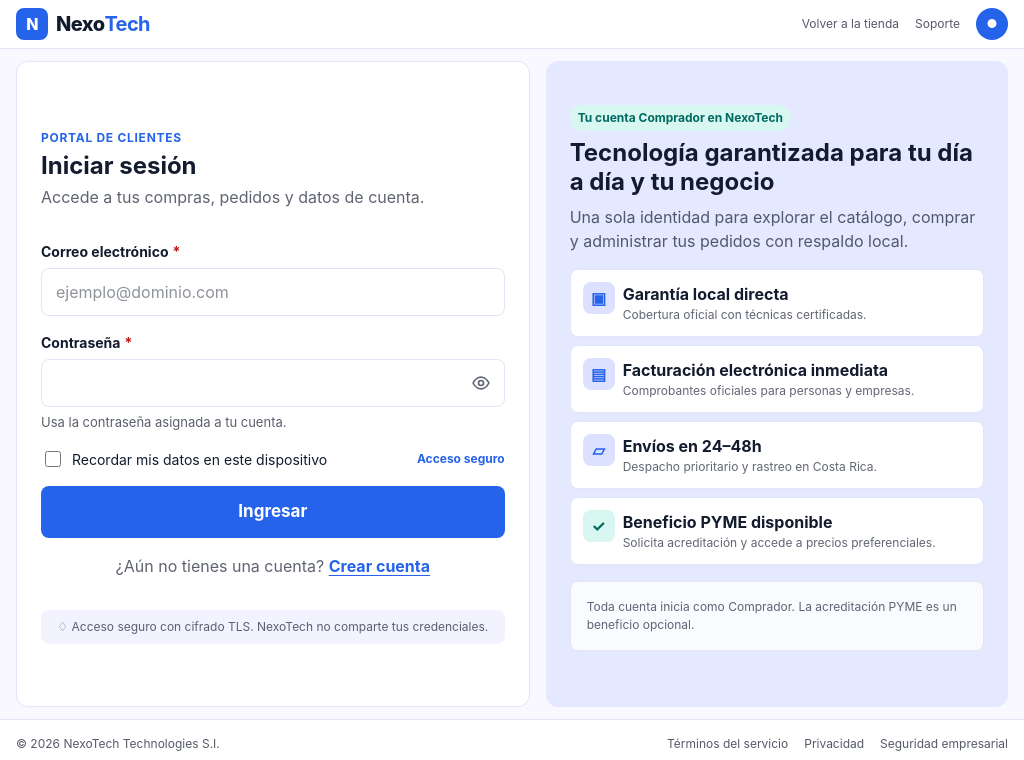
Test: autenticación demostrativa › rechaza credenciales incorrectas y permite ingresar al comprador demo
The image size is (1024, 760).
Expected: the heading "Iniciar sesión" is shown, [41,151,196,180]
Type "camila.regular@nexotech.demo.test" into the field labelled "Correo electrónico*" at {"x": 273, "y": 292}, box [41,268,505,316]
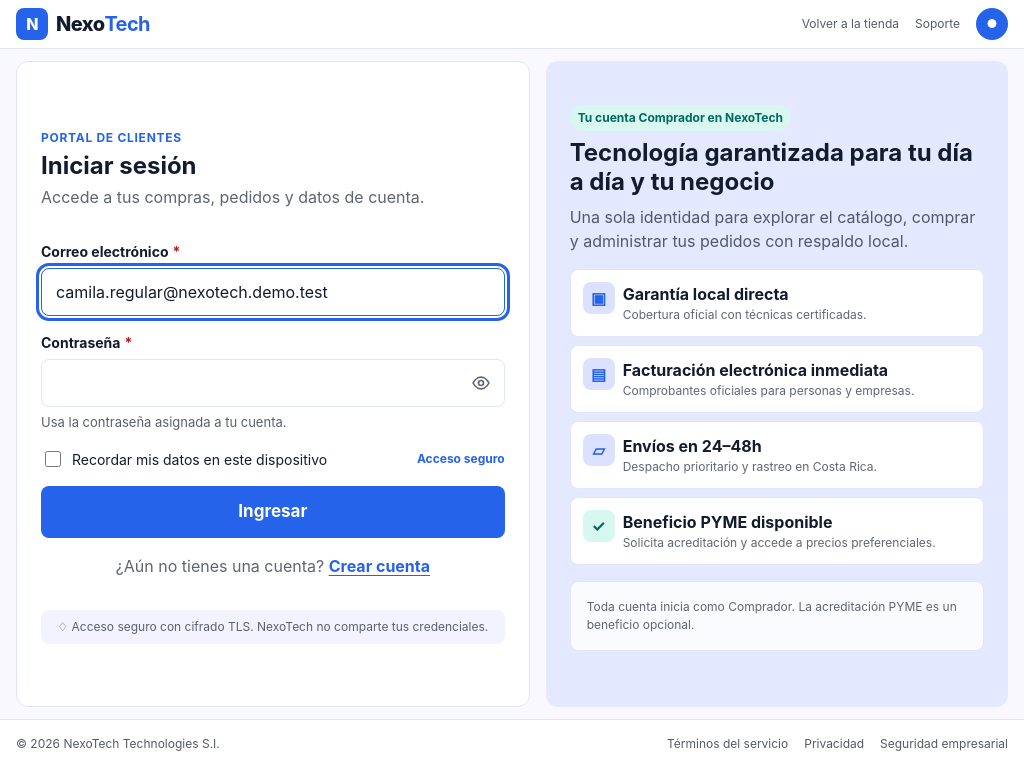
Type "Clave1234" into the password field labelled "Contraseña*" at {"x": 273, "y": 383}, box [41,359,505,407]
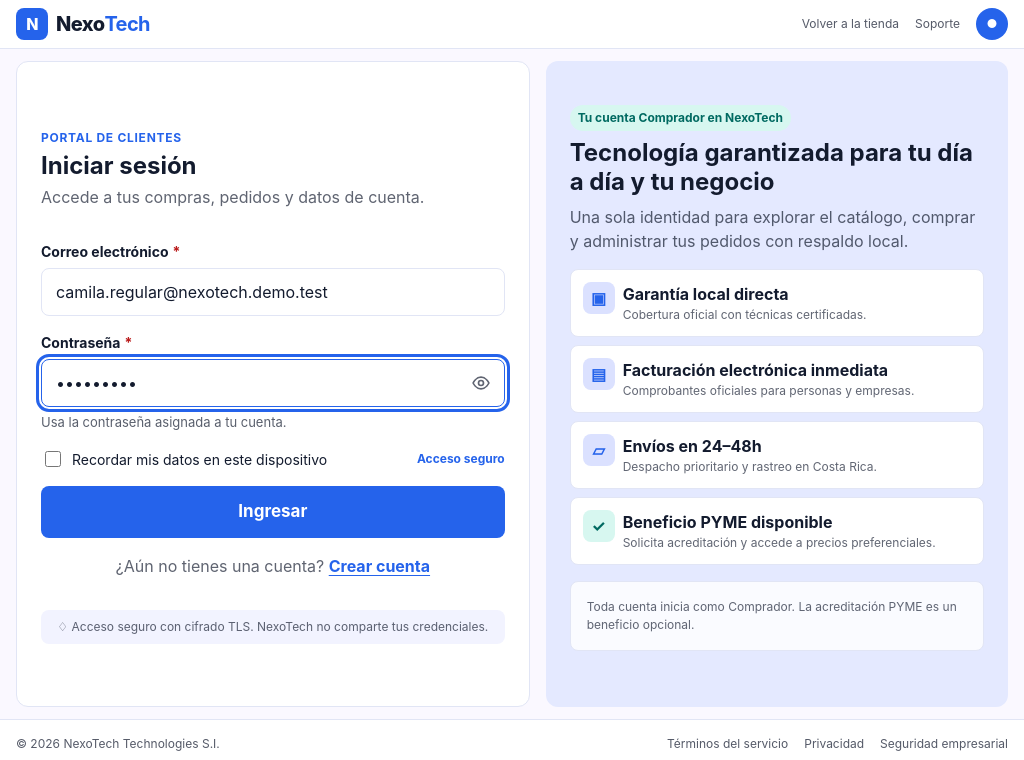
Click the button "Ingresar" at {"x": 273, "y": 512}, box [41,486,505,538]
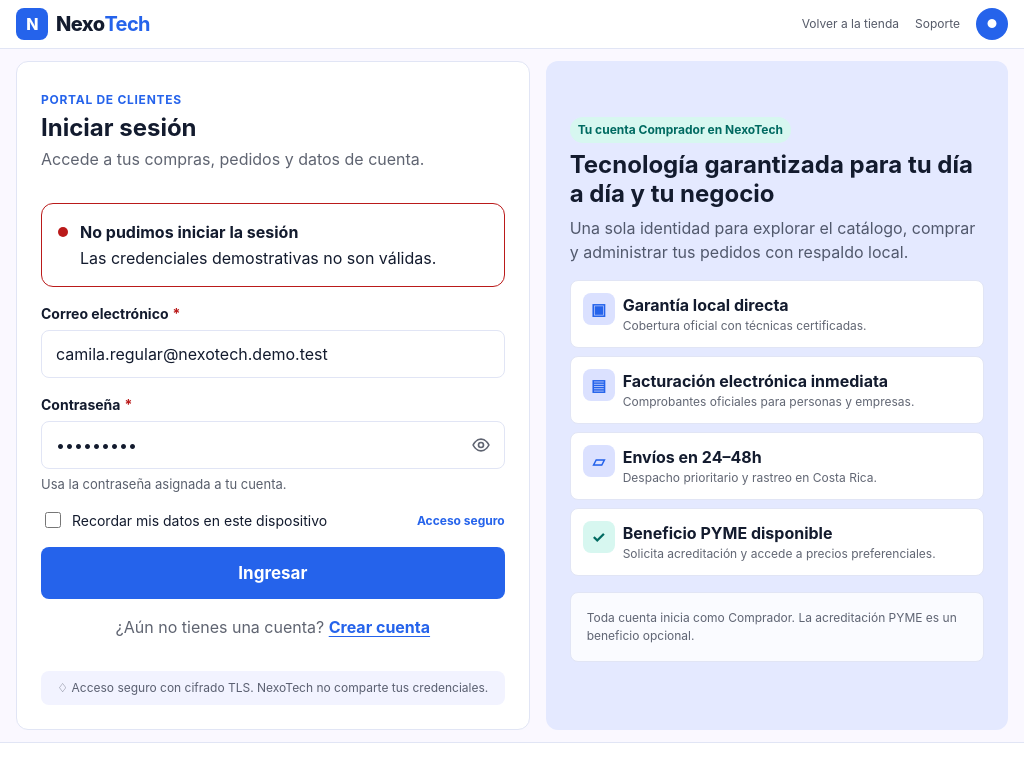
Expected: the text "Las credenciales demostrativas no son válidas." is shown, [80,246,476,270]
Type "Comprador123!" into the password field labelled "Contraseña*" at {"x": 273, "y": 445}, box [41,421,505,469]
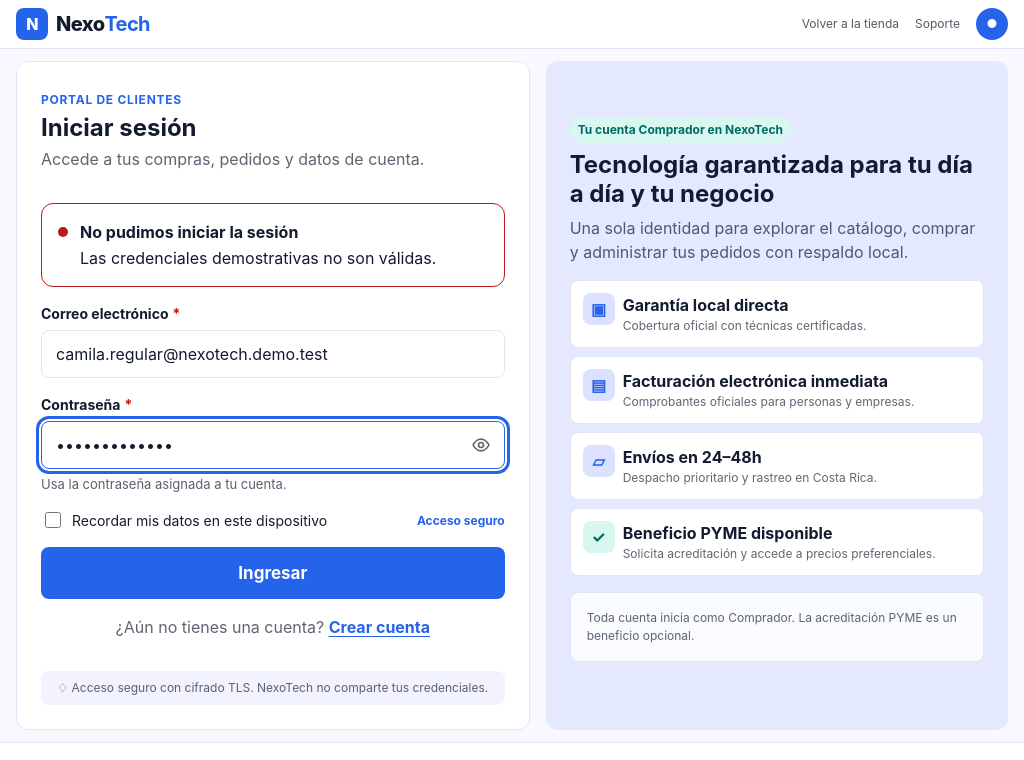
Click the button "Ingresar" at {"x": 273, "y": 573}, box [41,547,505,599]
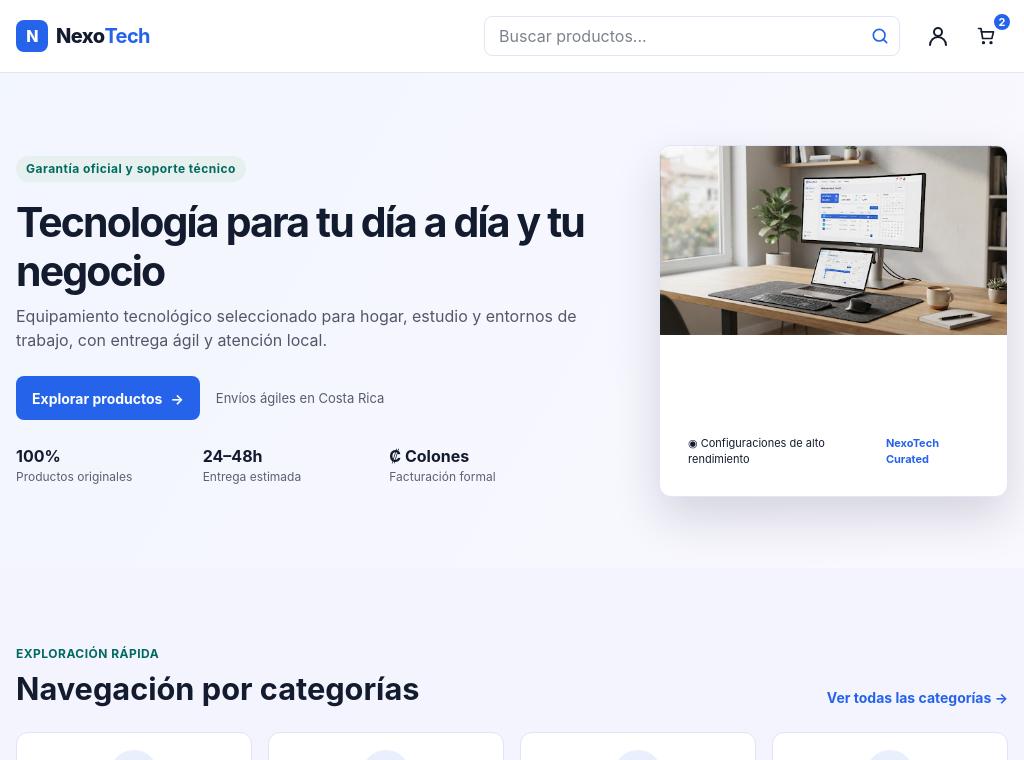
Expected: the heading "Tecnología para tu día a día y tu negocio" is shown, [16,198,598,296]
